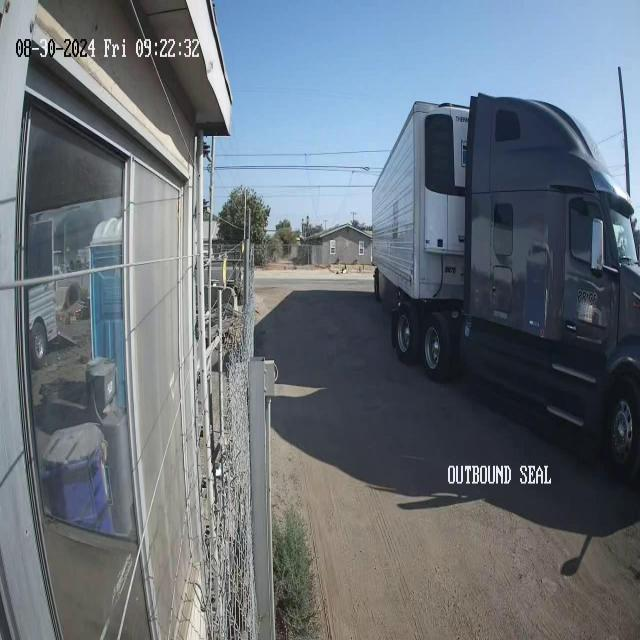TRUCK_IN: (371, 90, 639, 483)
